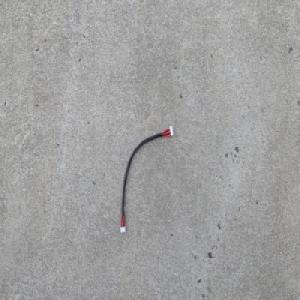Wire: (118, 123, 174, 234)
